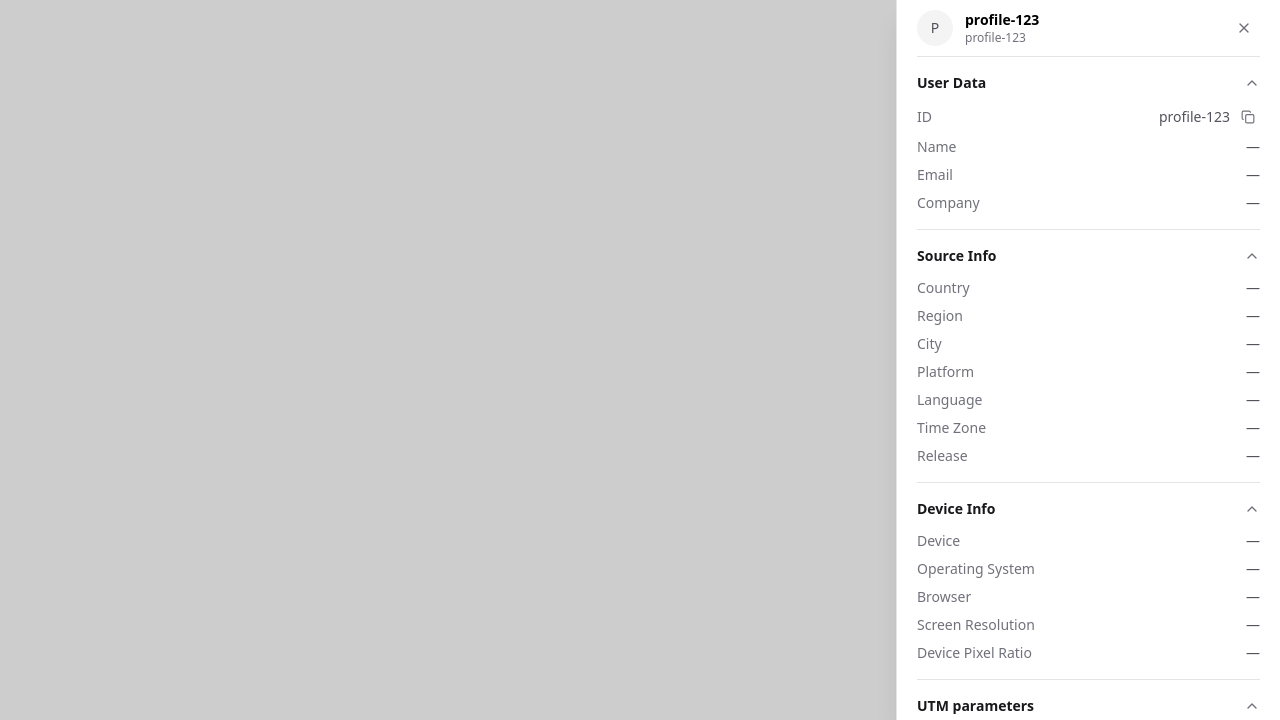
Test: profile copy feedback › reports Clipboard API success without using the fallback
This screenshot has width=1280, height=720.
Click the button named "Copy". click: [1248, 117]
box: 1236,105 -> 1260,129
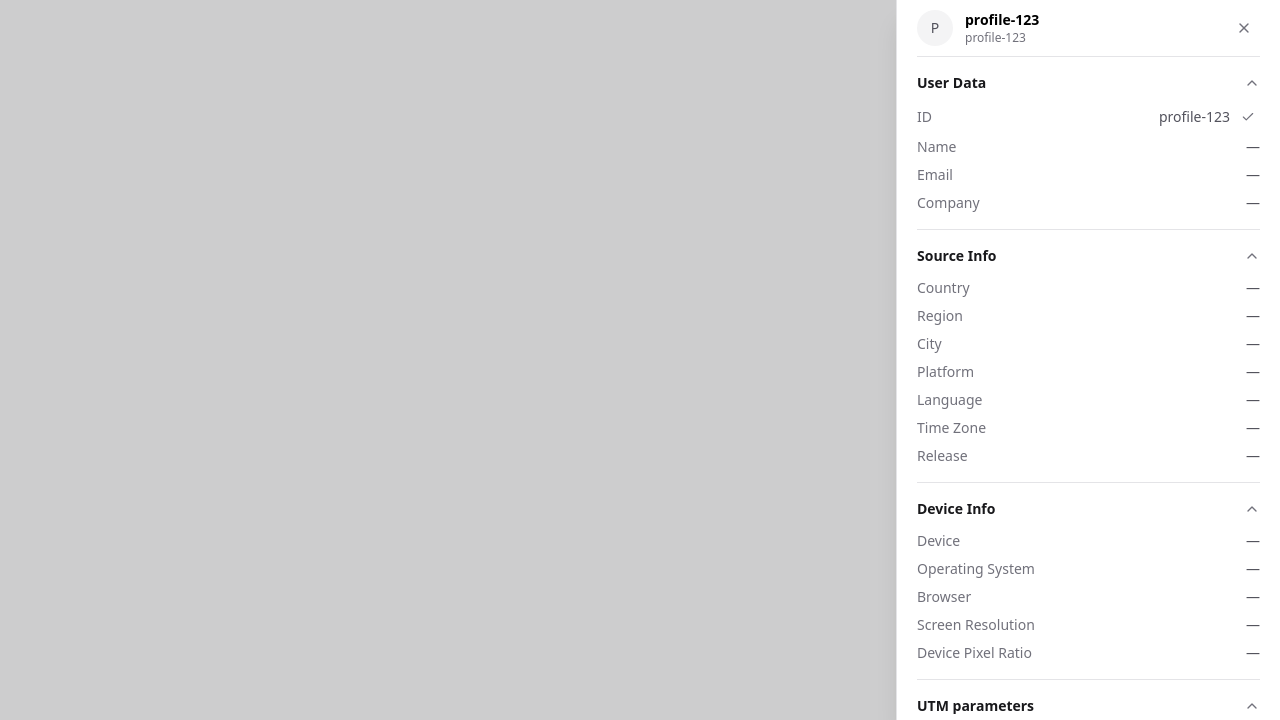
Now the icon with class "lucide-check" is shown, box 1241,110 -> 1255,124
